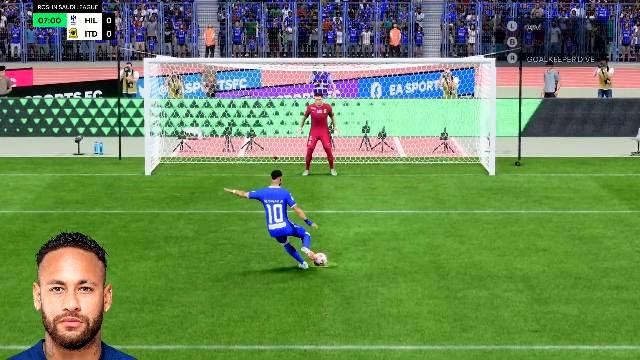bottom-left: (157, 132, 263, 180)
bottom-right: (376, 130, 484, 178)
center-down: (266, 132, 374, 180)
center-up: (265, 66, 373, 128)
circle: (303, 258, 337, 266)
football: (313, 253, 327, 265)
goalkeeper: (302, 107, 342, 181)
player: (228, 173, 314, 273)
top-left: (156, 67, 264, 129)
top-right: (374, 67, 486, 128)
